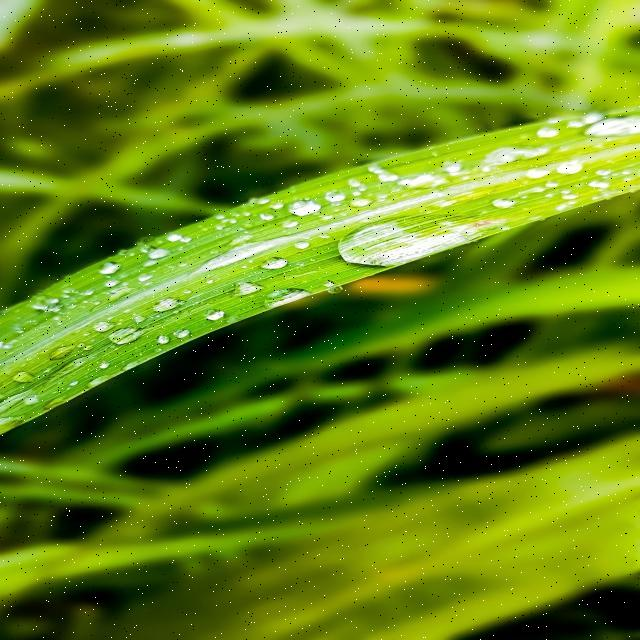raindrop: (317, 210, 502, 282), (547, 106, 640, 150), (262, 283, 324, 311), (106, 321, 148, 348), (143, 292, 191, 314), (92, 256, 133, 279), (254, 256, 298, 274), (144, 240, 180, 260)
